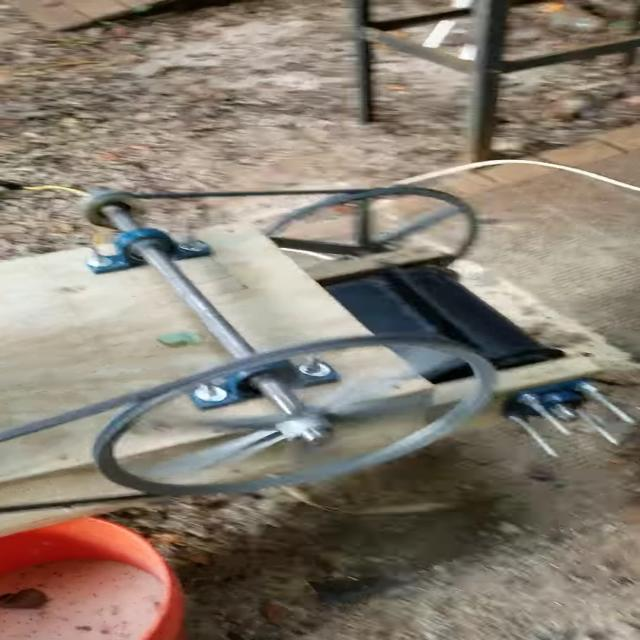Convoyeur: (0, 197, 630, 518)
